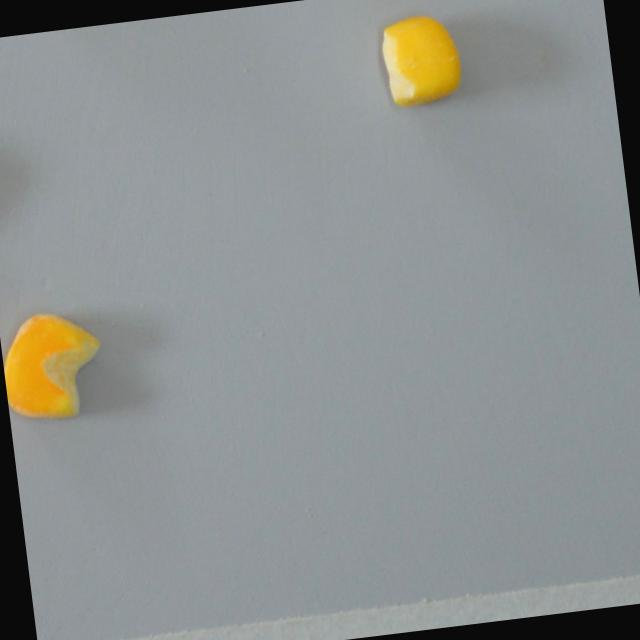estandar: (376, 9, 468, 110)
no_canjicado: (0, 302, 111, 427)
